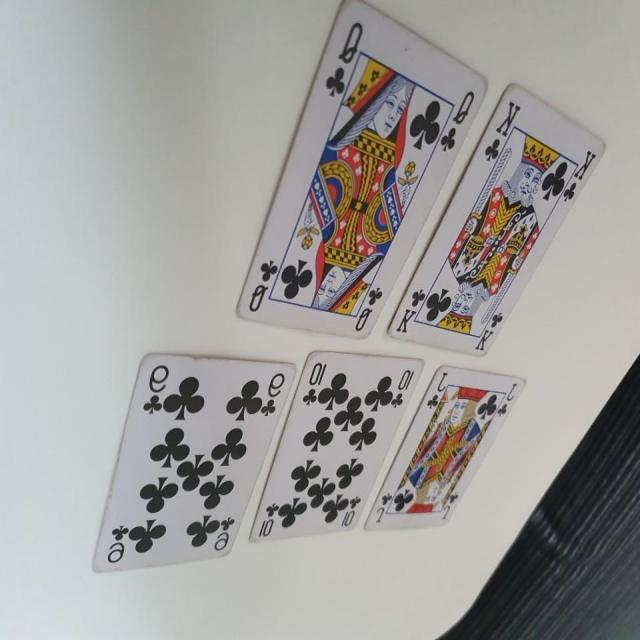10 of clubs: (248, 350, 428, 547)
9 of clubs: (88, 353, 300, 576)
jack of clubs: (362, 364, 526, 534)
king of clubs: (384, 82, 608, 358)
queen of clubs: (233, 0, 490, 342)
